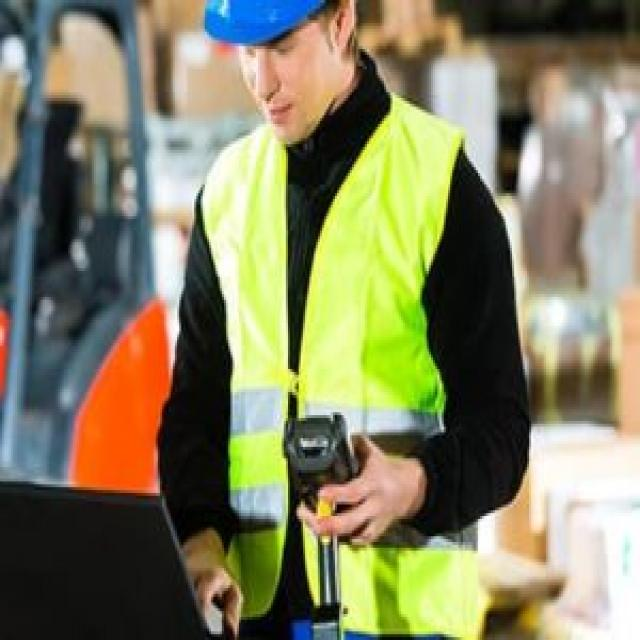Reflective-Jacket: (196, 98, 491, 640)
Safety-Helmet: (196, 0, 369, 52)
